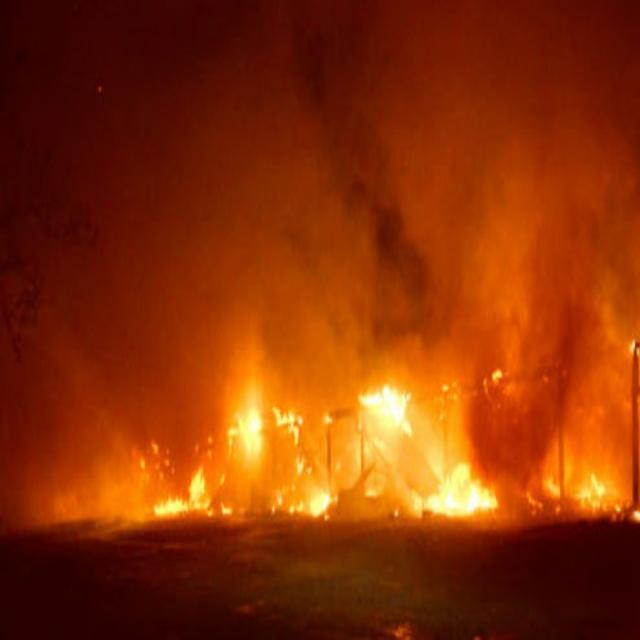Smoke: (277, 0, 471, 375), (463, 188, 640, 490)
